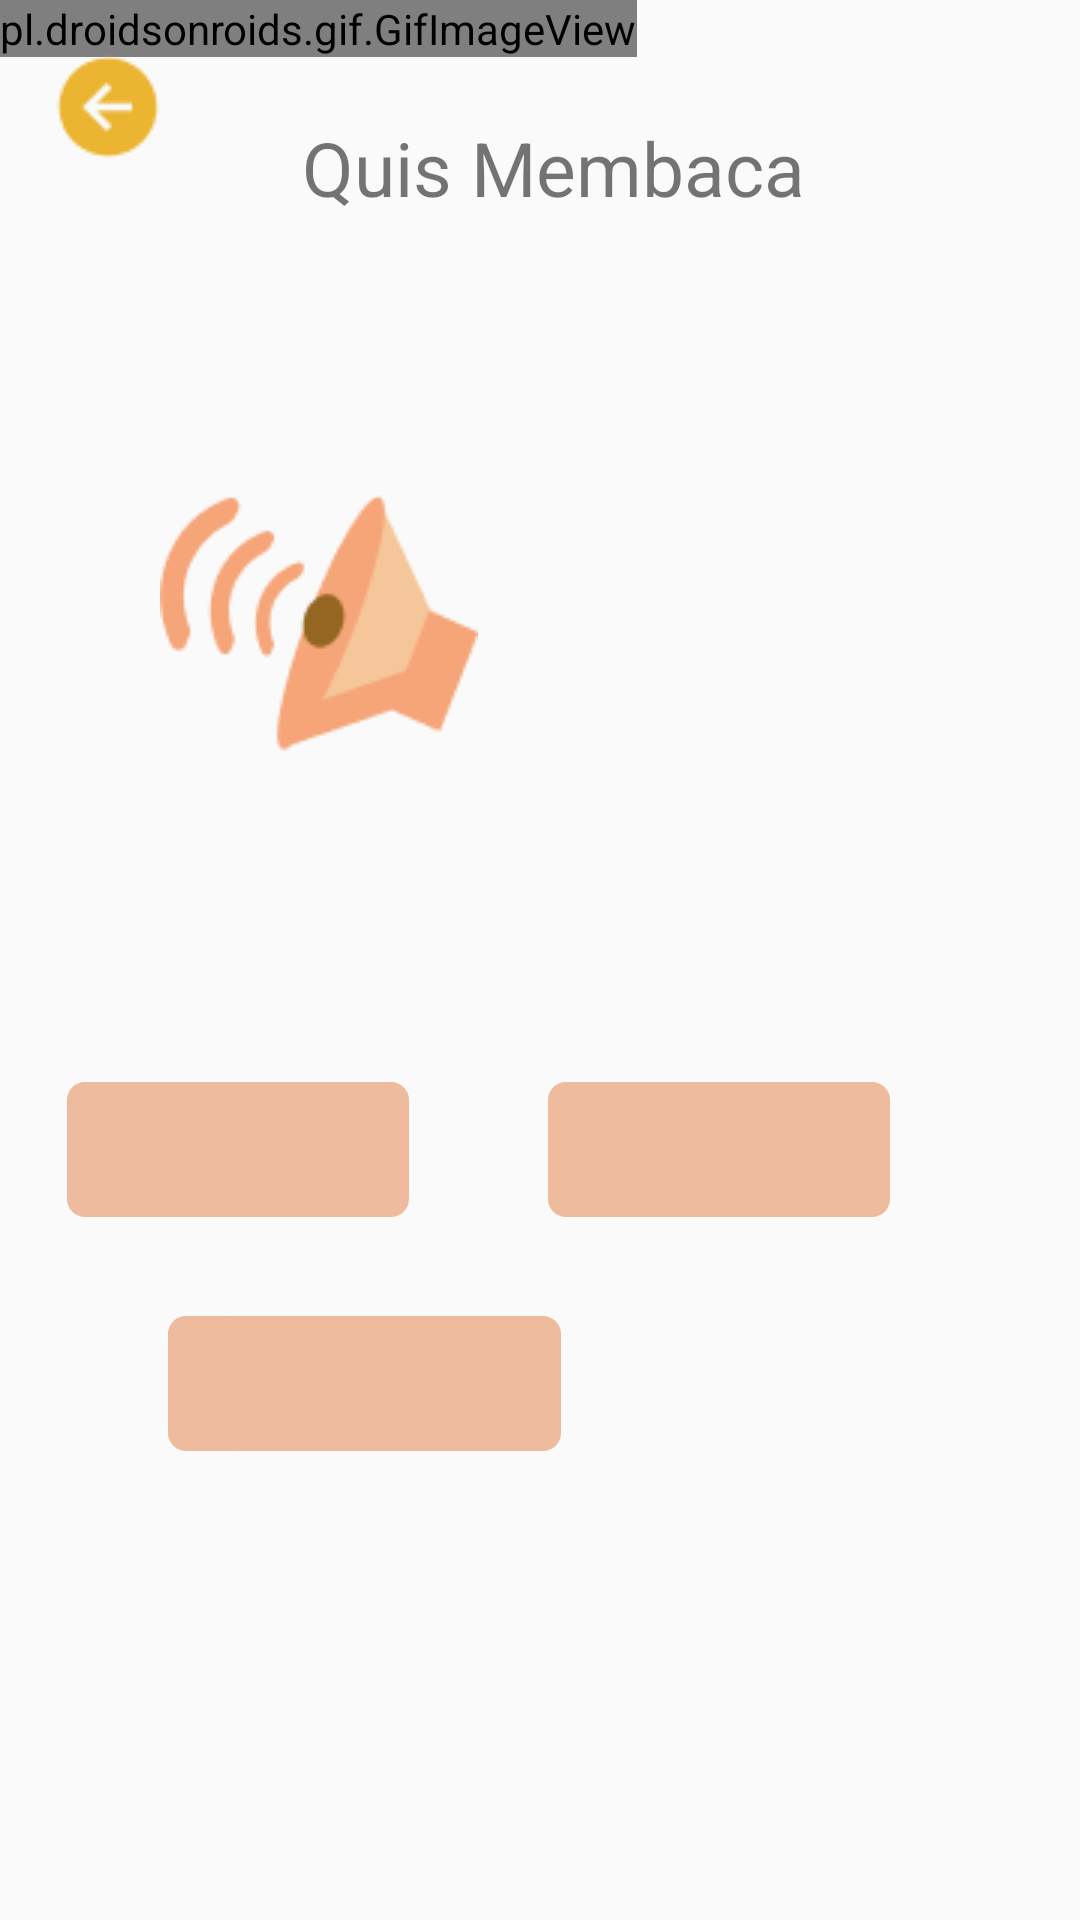

Screen size 1080px x 1920px. Icon name, then its box in pixels as region(x1, y1, x2, y2):
keluar: region(48, 47, 168, 158)
sound: region(160, 496, 478, 751)
